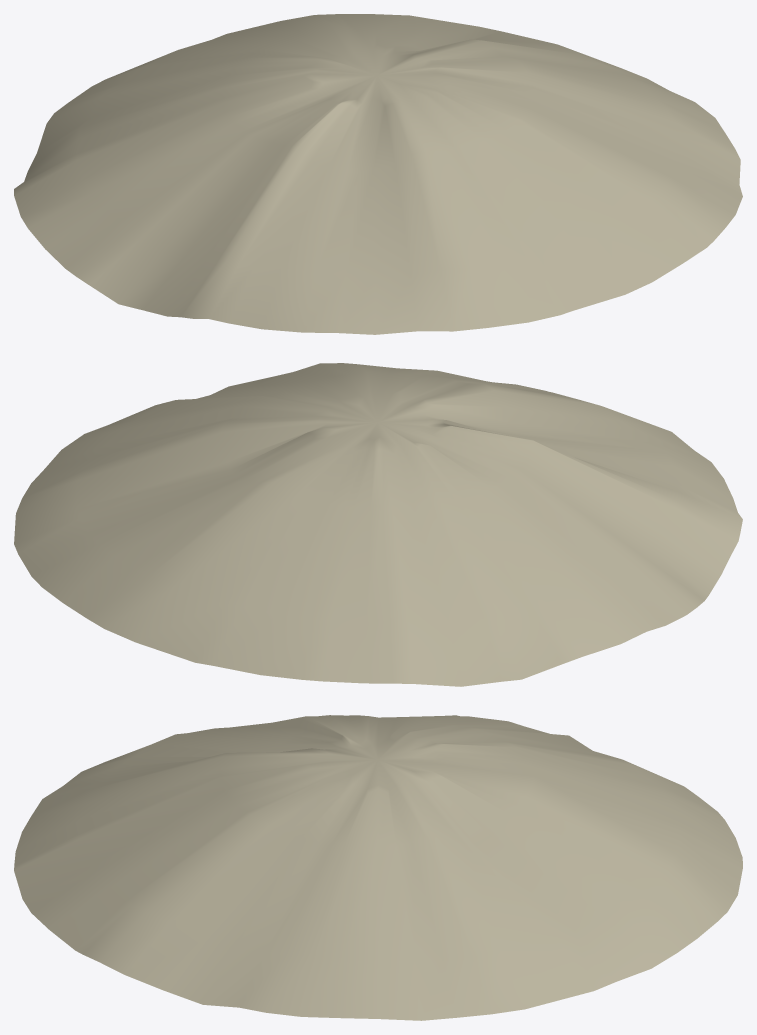
File: FBX_MOON_COLLIDER.fbx
3 renders of one model, top to bottom at view 1: azimuth 30°, elevation 25°; view 2: azimuth 150°, elevation 25°; view 3: azimuth 270°, elevation 25°, orthographic.
Parts seen in each view (by area): view 1: FBX_MOON1; view 2: FBX_MOON1; view 3: FBX_MOON1.
Boxes of the visible parts, box(x1,y1,x2,y2) form: FBX_MOON1: box(14, 14, 742, 334); FBX_MOON1: box(14, 363, 742, 686); FBX_MOON1: box(14, 715, 742, 1020).
Size of the model in its own units: 3877 by 774 by 3903.
